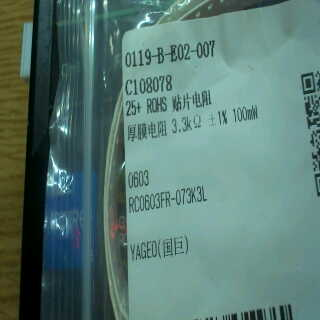3.3kO: (168, 110, 203, 136)
